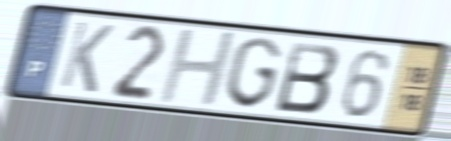2: (109, 22, 171, 104)
6: (340, 47, 392, 121)
B: (272, 38, 343, 116)
G: (222, 34, 285, 112)
H: (155, 27, 241, 108)
K: (56, 18, 117, 96)
